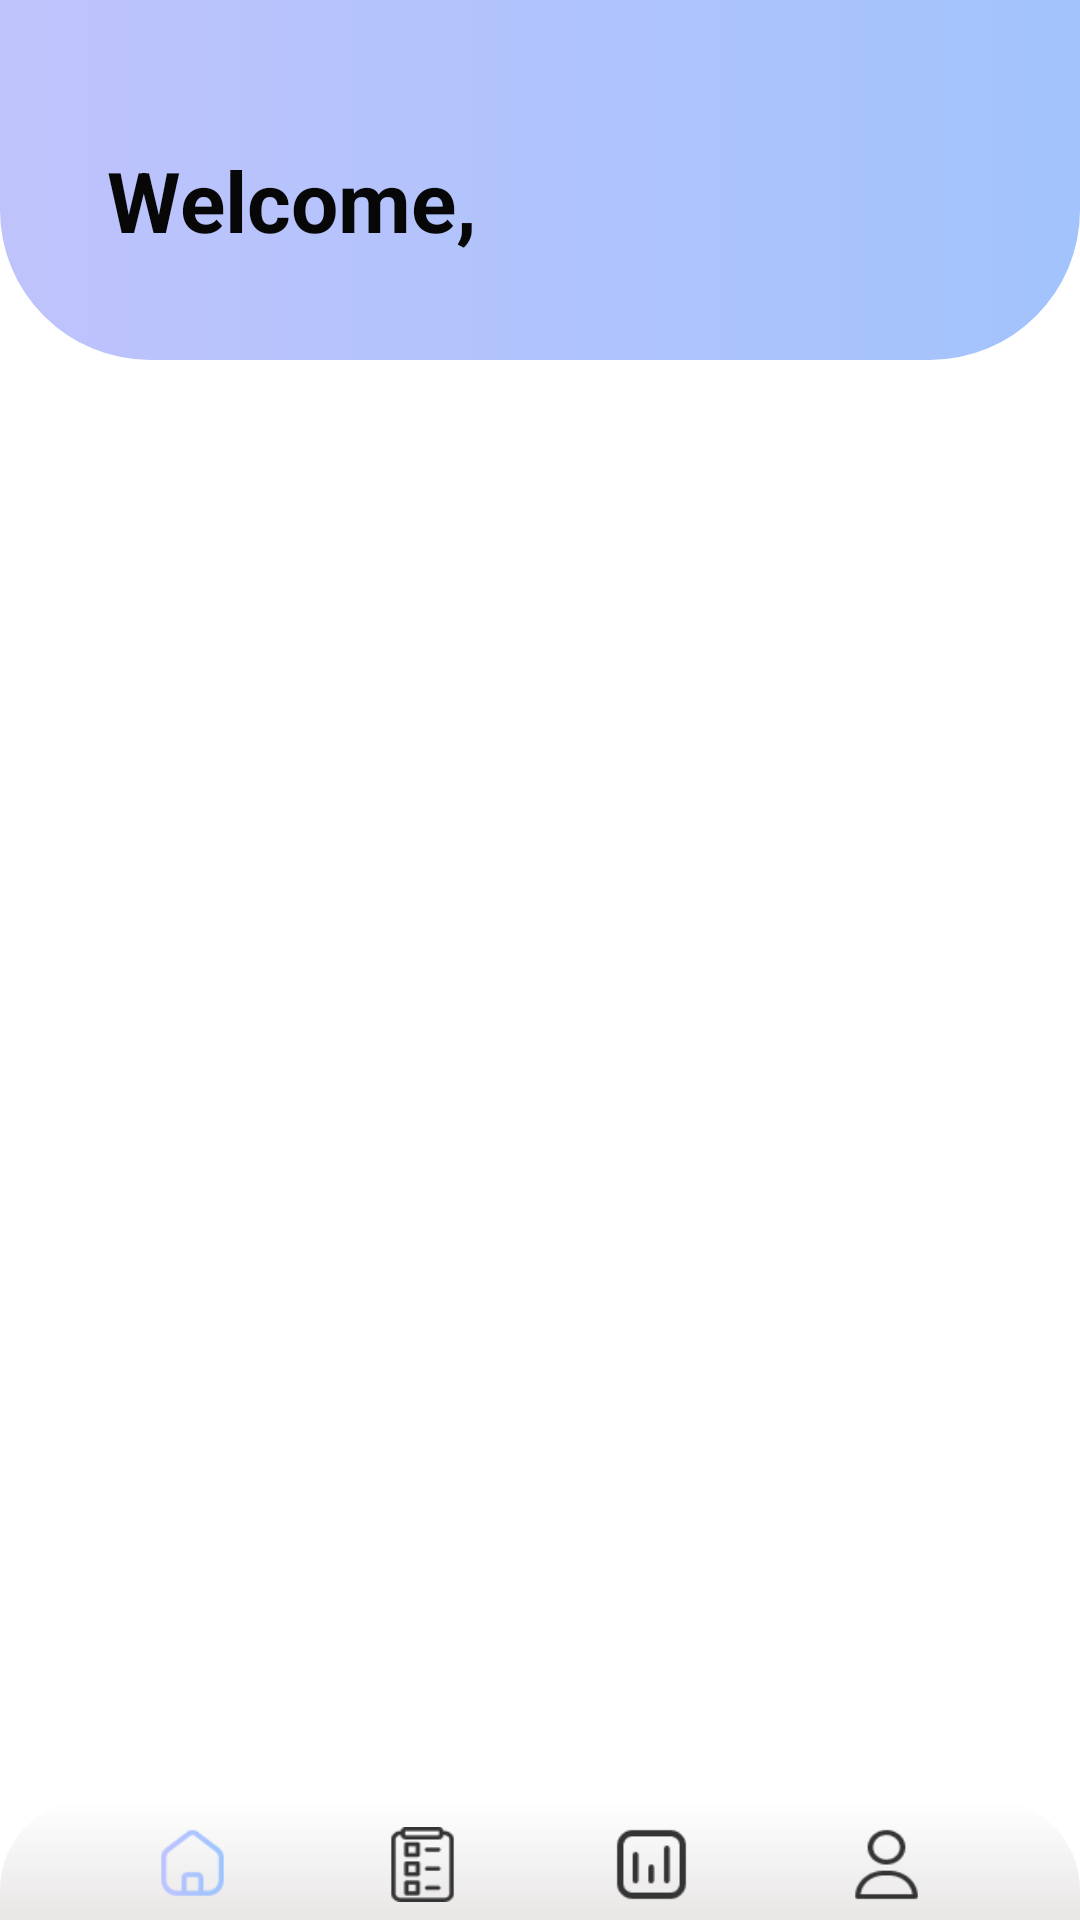

Screen size 1080 × 1920. Icon name, then its center in pixels as (x,y):
onhome: (192,1860)
